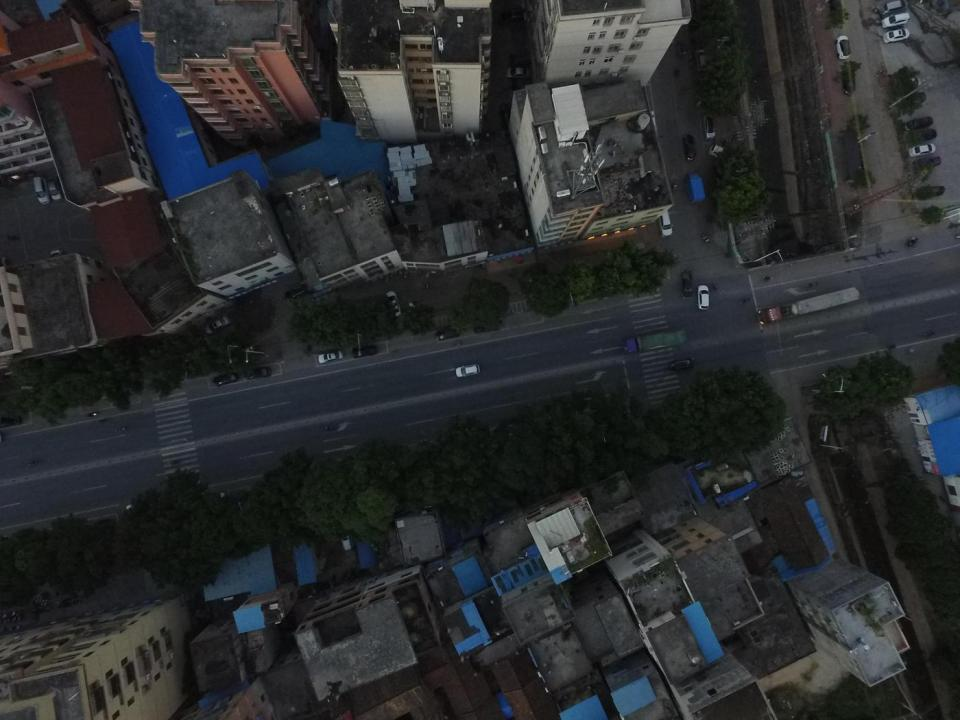car: (657, 204, 673, 239), (880, 12, 910, 28), (882, 27, 910, 44), (385, 290, 402, 318), (204, 316, 229, 335), (904, 116, 934, 131), (681, 134, 697, 162), (47, 177, 64, 203), (834, 34, 851, 60), (708, 144, 732, 162), (213, 371, 240, 387), (912, 156, 942, 170), (243, 365, 271, 380), (669, 356, 695, 372), (435, 326, 461, 342), (908, 128, 936, 142), (908, 143, 936, 157), (350, 345, 378, 359), (695, 284, 710, 310), (455, 363, 480, 378), (317, 351, 343, 364), (505, 66, 529, 79), (703, 115, 715, 139)
truck: (758, 286, 860, 326), (620, 326, 688, 356), (684, 174, 706, 204), (681, 270, 695, 300)
van: (32, 176, 52, 205), (881, 0, 907, 16)
